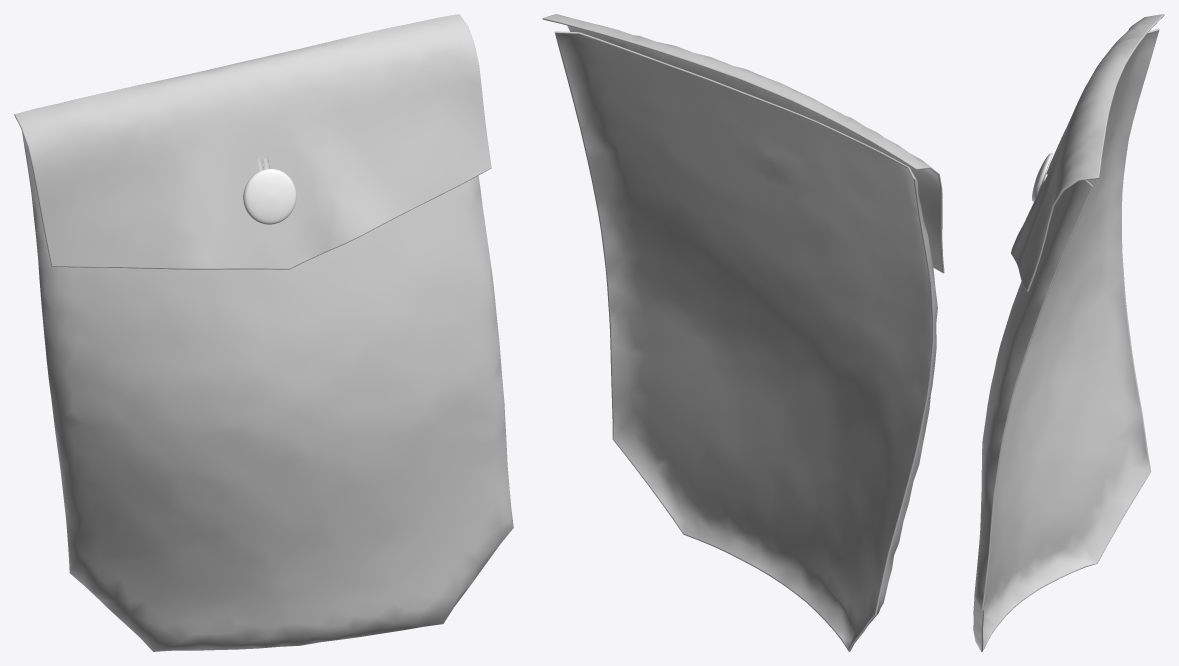
Rendered from Welt_Pocket_With_Flap.glb.
The picture shows the model from 3 angles, left to right: view 1: azimuth 30°, elevation 25°; view 2: azimuth 150°, elevation 25°; view 3: azimuth 270°, elevation 25°; orthographic projection. The views are drawn at different scales.
Visible parts, largest first — view 1: Pattern_480368_Node, Pattern_4387279_Node, MatShape_4840285_Node; view 2: Pattern_480368_Node, Pattern_4387279_Node; view 3: Pattern_480368_Node, Pattern_4387279_Node, MatShape_4840285_Node.
Boxes of the visible parts, box(x1,y1,x2,y2) form: Pattern_480368_Node: box(22, 132, 513, 651); Pattern_4387279_Node: box(14, 14, 491, 269); MatShape_4840285_Node: box(243, 168, 296, 224); Pattern_480368_Node: box(554, 31, 937, 651); Pattern_4387279_Node: box(542, 14, 944, 273); Pattern_480368_Node: box(973, 28, 1159, 651); Pattern_4387279_Node: box(1011, 14, 1164, 291); MatShape_4840285_Node: box(1032, 153, 1052, 202).
Size of the model in its own units: 10.84 by 14.07 by 4.62.
3 materials, 1 textured.
